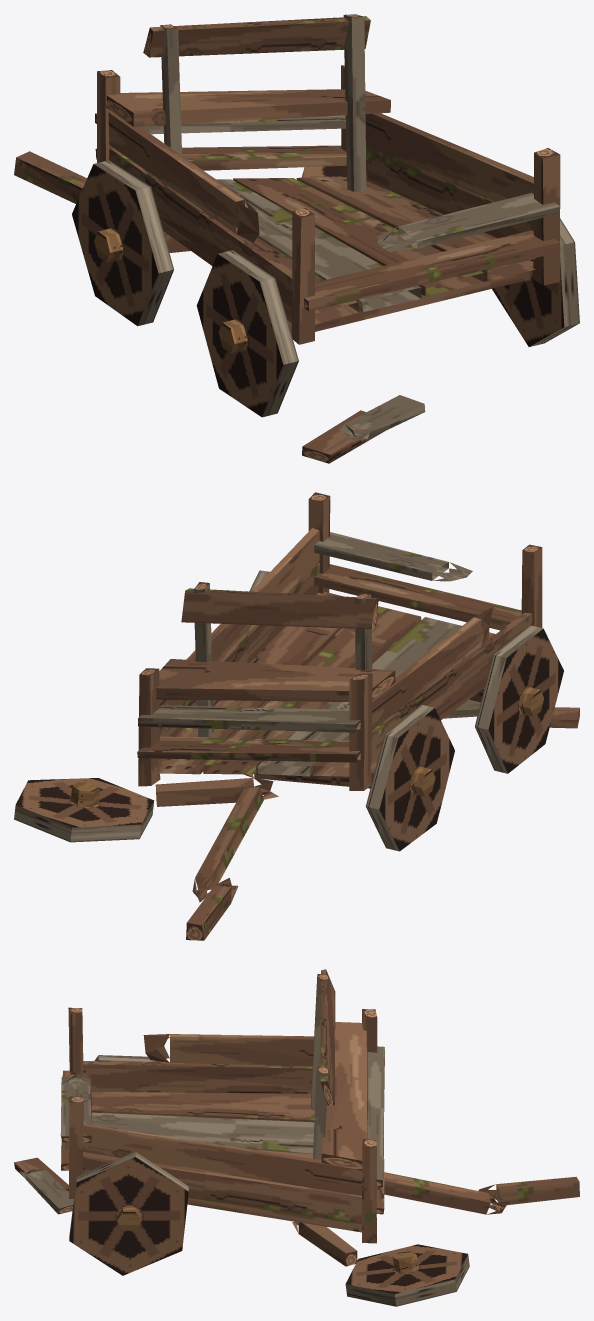
The model's file is SM_SP11_BrokenWagon.fbx.
3 renders of one model, top to bottom at view 1: azimuth 30°, elevation 25°; view 2: azimuth 150°, elevation 25°; view 3: azimuth 270°, elevation 25°, orthographic. The views are drawn at different scales.
Visible parts, largest first — view 1: SP11_Wagon, SP11_Wheels; view 2: SP11_Wagon, SP11_Wheels; view 3: SP11_Wagon, SP11_Wheels.
Boxes of the visible parts, <box> form: SP11_Wagon: <box>14,14,560,463</box>; SP11_Wheels: <box>72,160,579,417</box>; SP11_Wagon: <box>137,492,579,940</box>; SP11_Wheels: <box>14,570,563,851</box>; SP11_Wagon: <box>14,969,579,1266</box>; SP11_Wheels: <box>69,1055,469,1306</box>.
Size of the model in its own units: 2.34 by 1.58 by 3.74.
